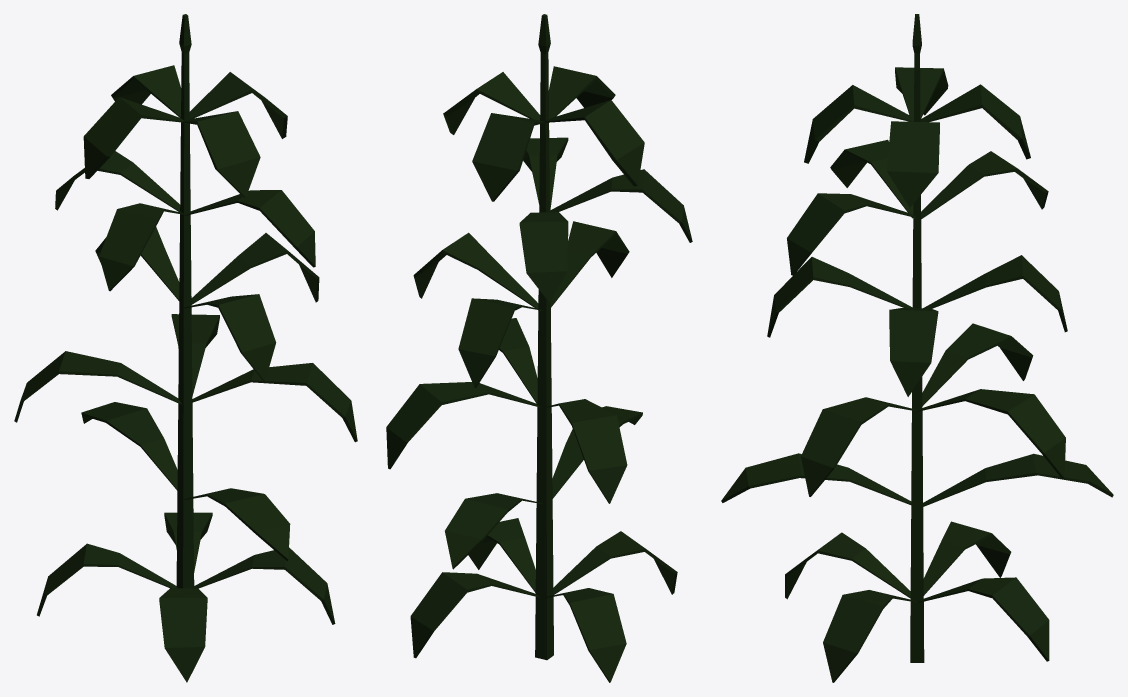
The model's file is Corn_1.glb.
3 views of the same model, side by side, from view 1: azimuth 30°, elevation 25°; view 2: azimuth 150°, elevation 25°; view 3: azimuth 270°, elevation 25° (orthographic).
Parts seen in each view (by area): view 1: Corn_1_Cube.033; view 2: Corn_1_Cube.033; view 3: Corn_1_Cube.033.
Boxes of the visible parts, bbox=[...] form: Corn_1_Cube.033: bbox=[14, 14, 357, 682]; Corn_1_Cube.033: bbox=[386, 14, 692, 682]; Corn_1_Cube.033: bbox=[721, 14, 1113, 682].
Size of the model in its own units: 0.8237 by 1.98 by 1.09.
